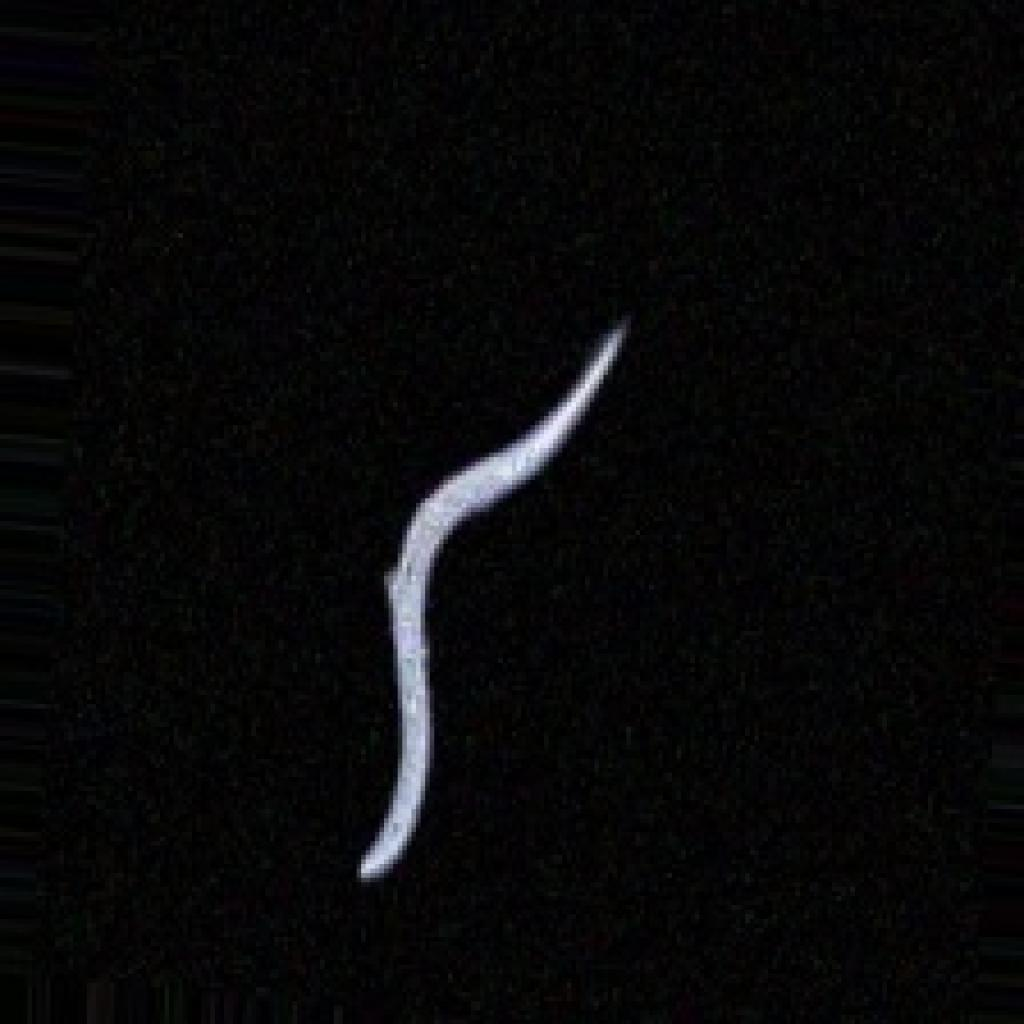Nematode: (0, 0, 1019, 1019), (348, 306, 636, 882)
